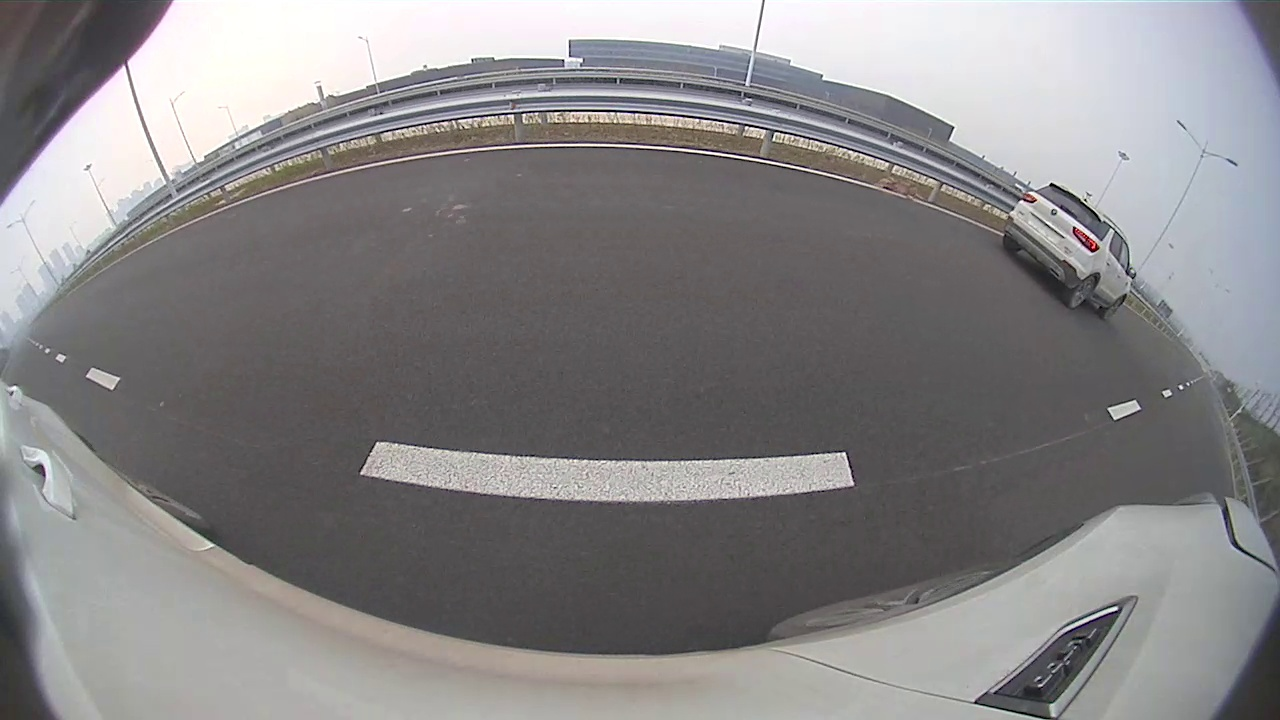car: (1000, 181, 1134, 320)
rear: (1068, 276, 1098, 311)
